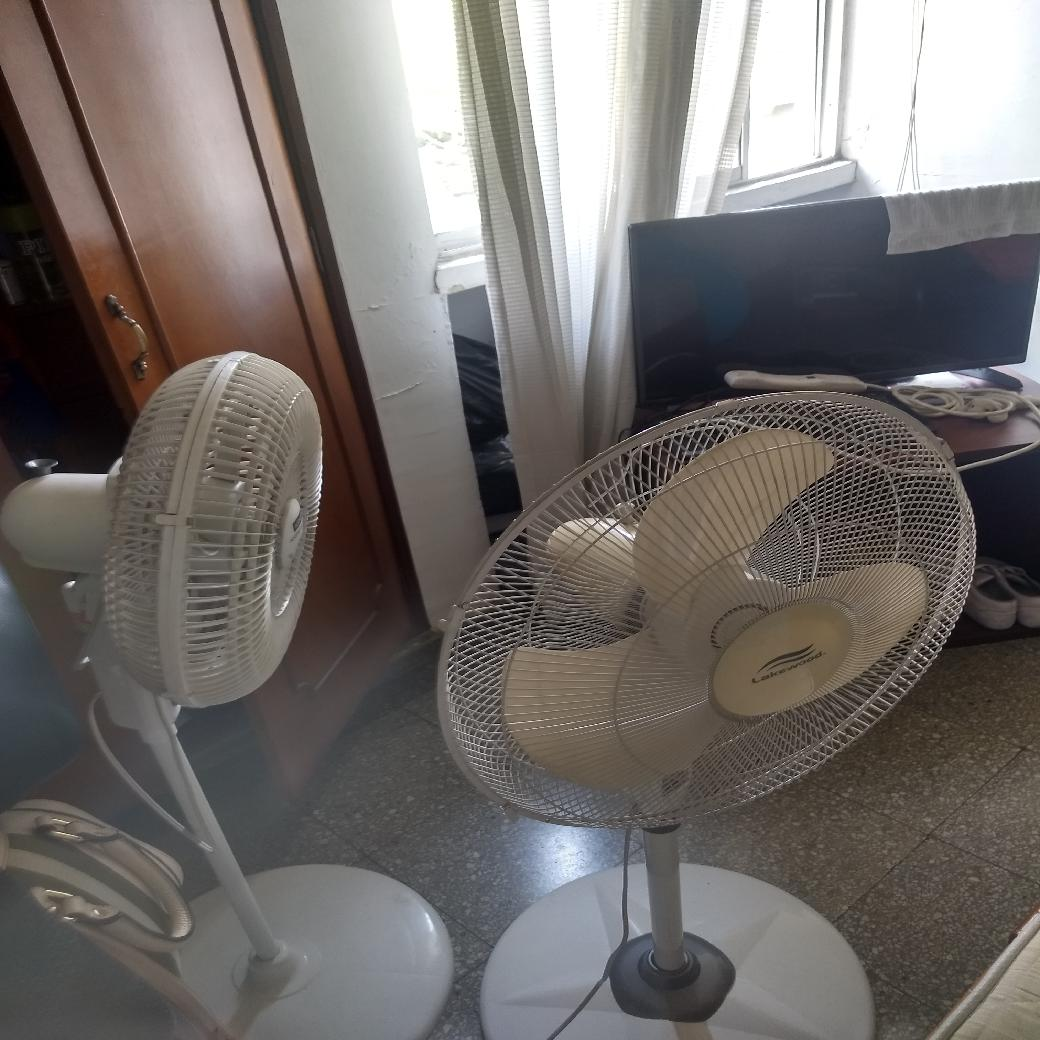tv: (604, 180, 1036, 372)
ventilador: (442, 388, 982, 840), (10, 348, 331, 765)
